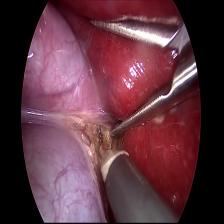Grasper: (85, 10, 206, 145)
Hook: (93, 110, 141, 191)
